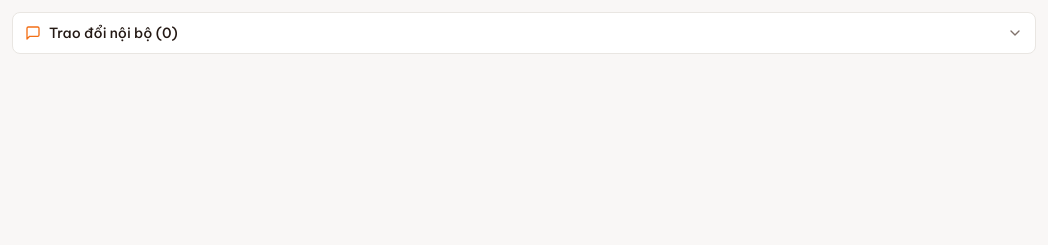
Scenario: InternalChat — header + load › hiển thị trạng thái rỗng khi chưa có tin nhắn
Click the button "Trao đổi nội bộ (0)". click: click(105, 33)
box: [13,13,1035,53]
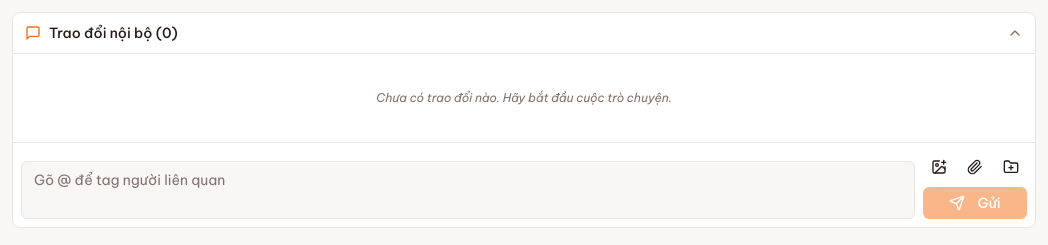
expect the text "Chưa có trao đổi nào. Hãy bắt đầu cuộc trò chuyện." is shown: met, box [376,90,672,105]
